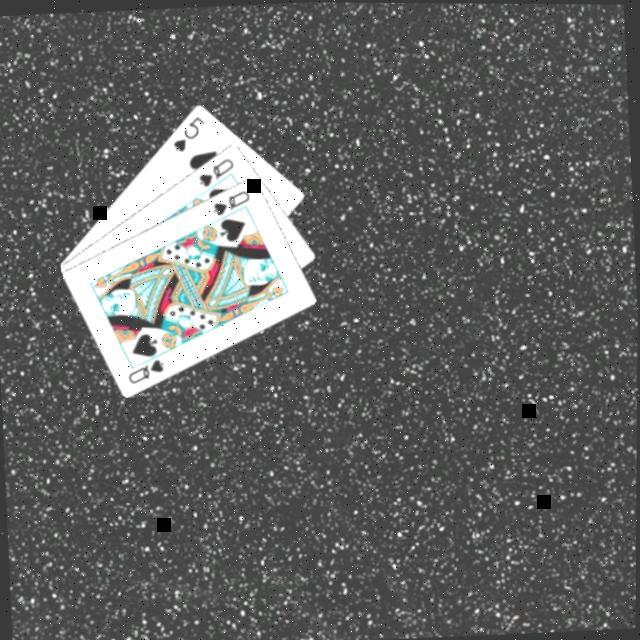5S: (166, 114, 206, 156)
QS: (192, 156, 236, 192), (207, 188, 253, 220), (122, 356, 168, 388)
